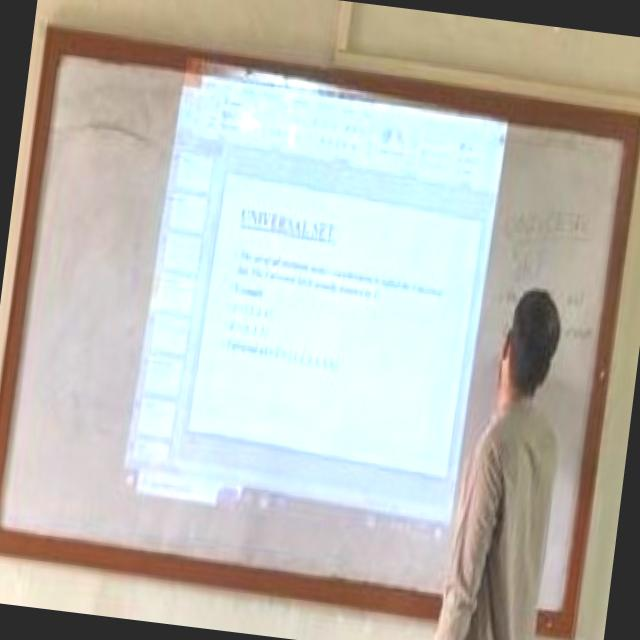Instructor: (439, 284, 583, 640)
Slide: (112, 55, 513, 552)
White-board: (0, 32, 634, 634)
